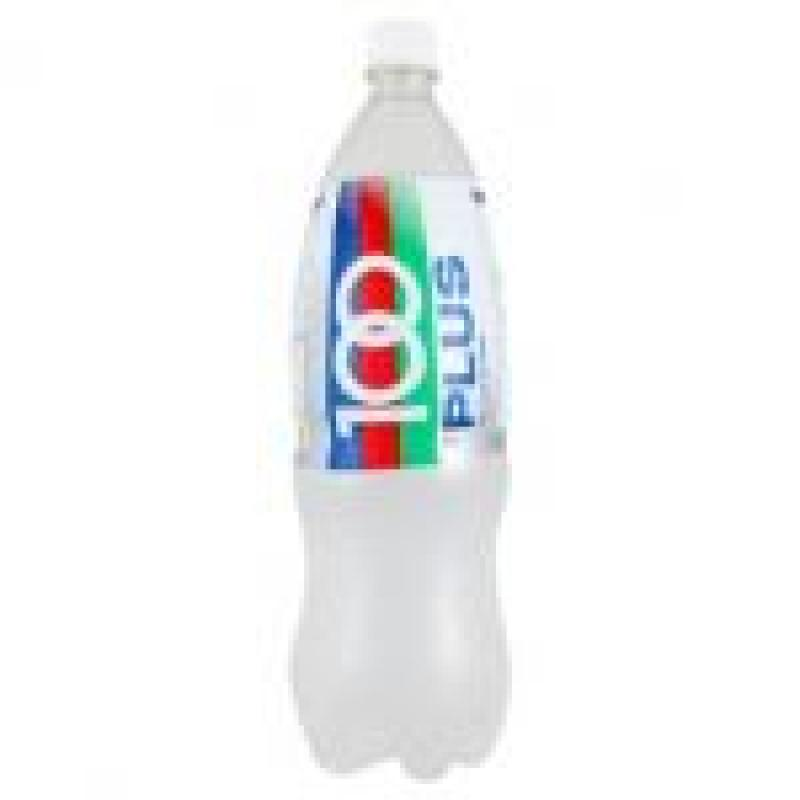botella: (285, 19, 539, 781)
